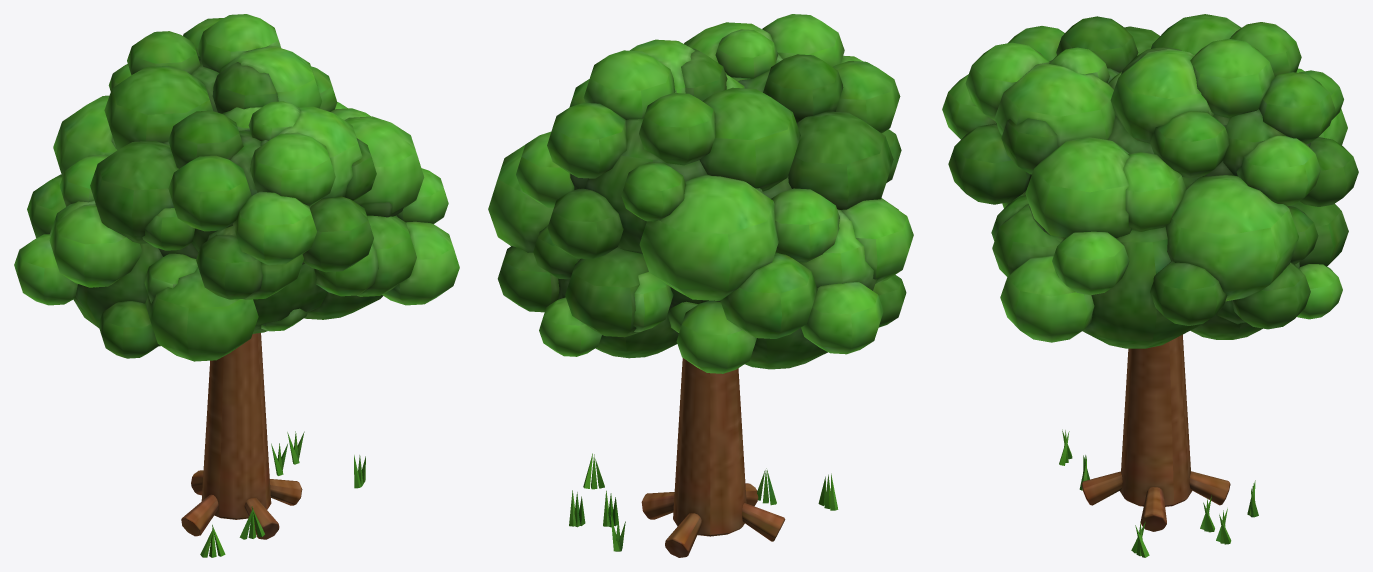
Rendered from quince_tree.glb.
3 renders of one model, left to right at view 1: azimuth 30°, elevation 25°; view 2: azimuth 150°, elevation 25°; view 3: azimuth 270°, elevation 25°, orthographic. The views are drawn at different scales.
Parts seen in each view (by area): view 1: crown, quince_tree; view 2: crown, quince_tree; view 3: crown, quince_tree.
Boxes of the visible parts, x1,y1,x2,y2 form: crown: (14,14,459,361); quince_tree: (181,333,365,557); crown: (488,14,913,373); quince_tree: (569,358,838,557); crown: (942,14,1358,348); quince_tree: (1059,334,1258,557).
Bounding box in the file's own units: 1.1 × 1.31 × 1.03.
1 material, 1 textured.
